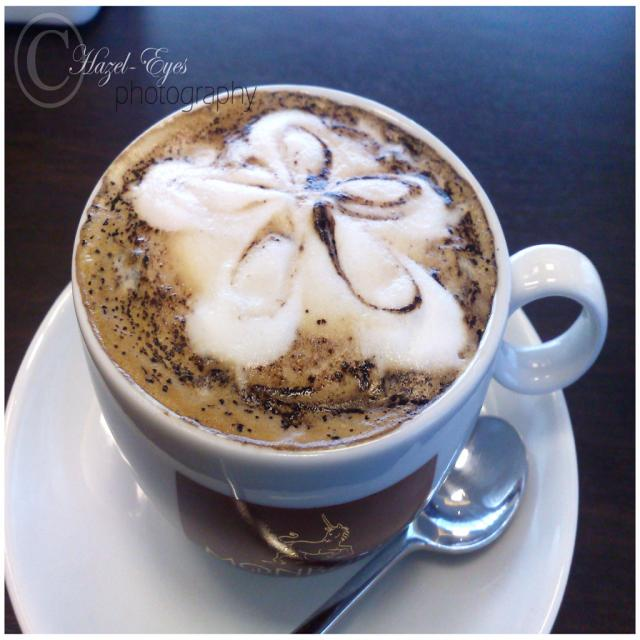Coffee: (75, 87, 496, 444)
